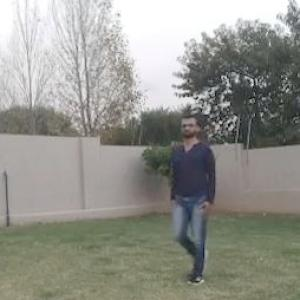follow: (174, 116, 212, 270)
